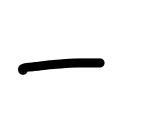minus: (18, 58, 105, 76)
